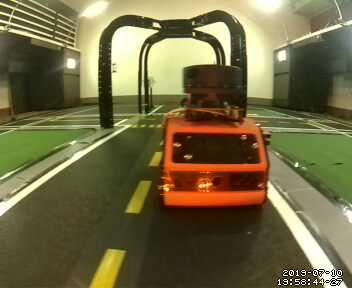pheeno: (158, 65, 271, 222)
